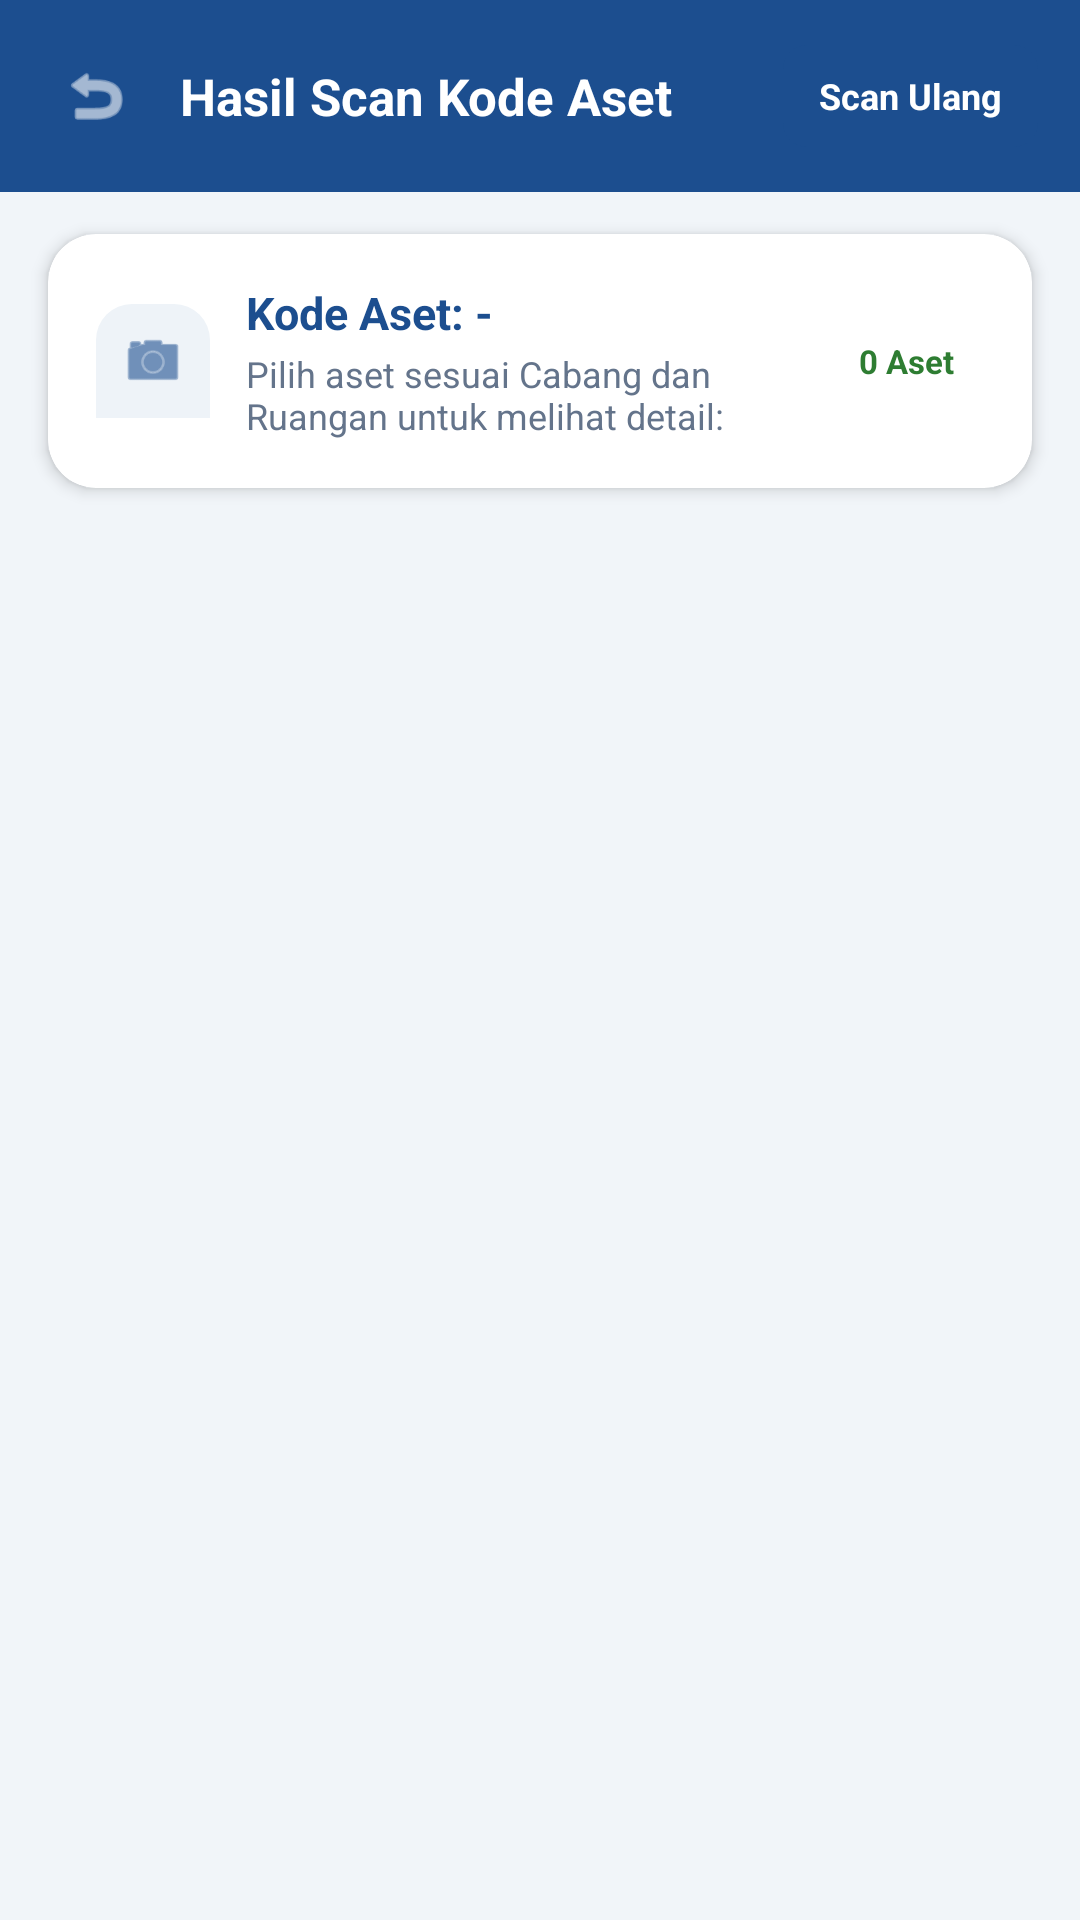

Screen size 1080*1920. Icon name, then its center in pixels as (x,y):
camera: (153,360)
Kembali: (97,96)
